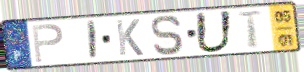I: (87, 19, 99, 62)
K: (114, 18, 146, 57)
P: (30, 23, 66, 65)
S: (150, 14, 187, 56)
T: (236, 10, 267, 50)
U: (194, 10, 235, 55)
